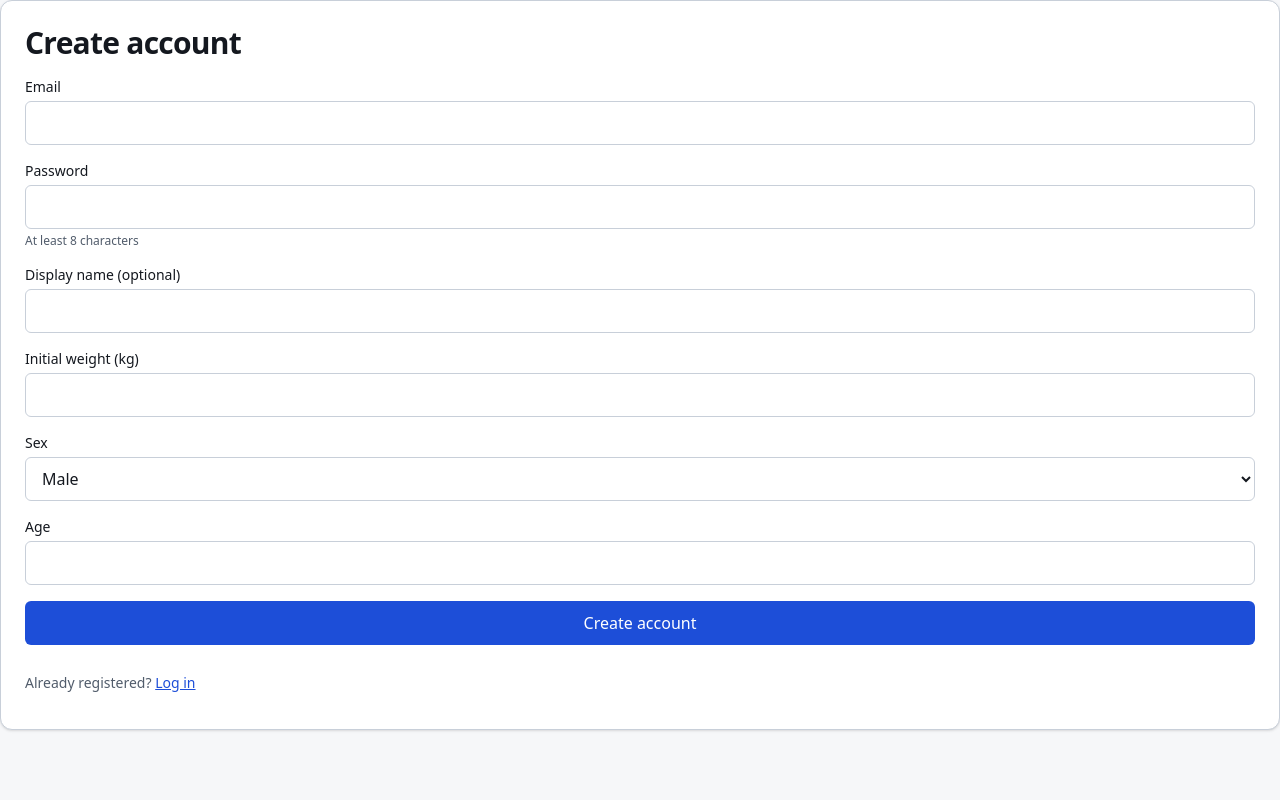
Test: RegisterRoute › shows the duplicate-account conflict at form level
This screenshot has width=1280, height=800.
In the field labelled "Email": (640, 123) [25,101,1255,145], type "taken@example.test"
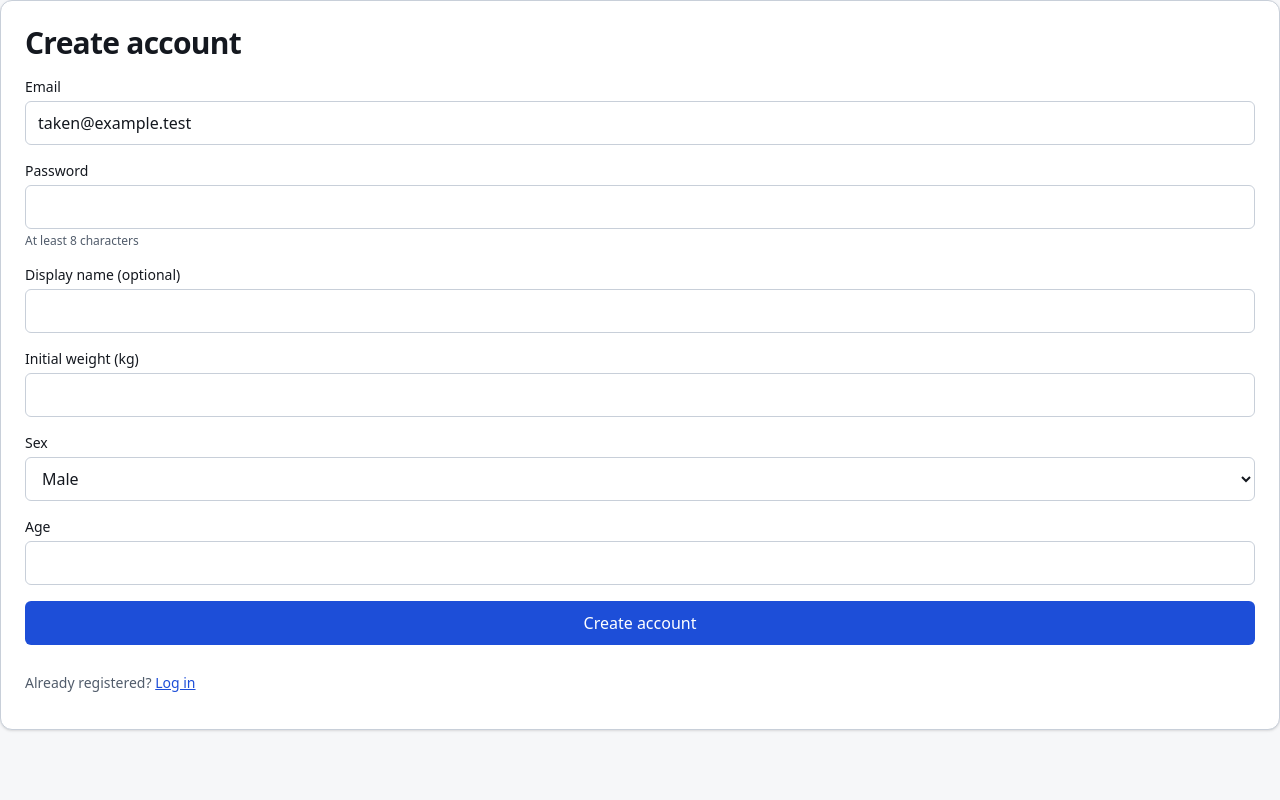
In the password field labelled "Password": (640, 207) [25,185,1255,229], type "password123"
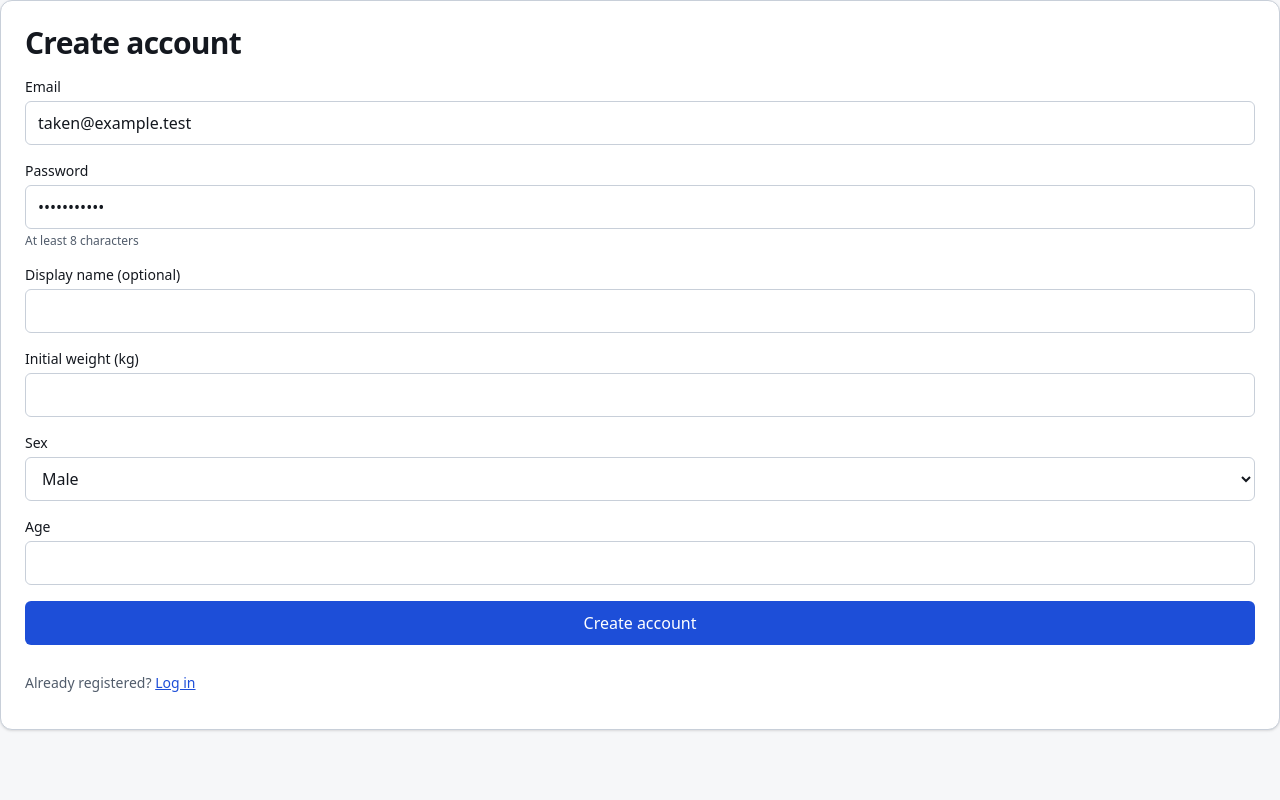
In the number field labelled "Initial weight (kg)": (640, 395) [25,373,1255,417], type "75"
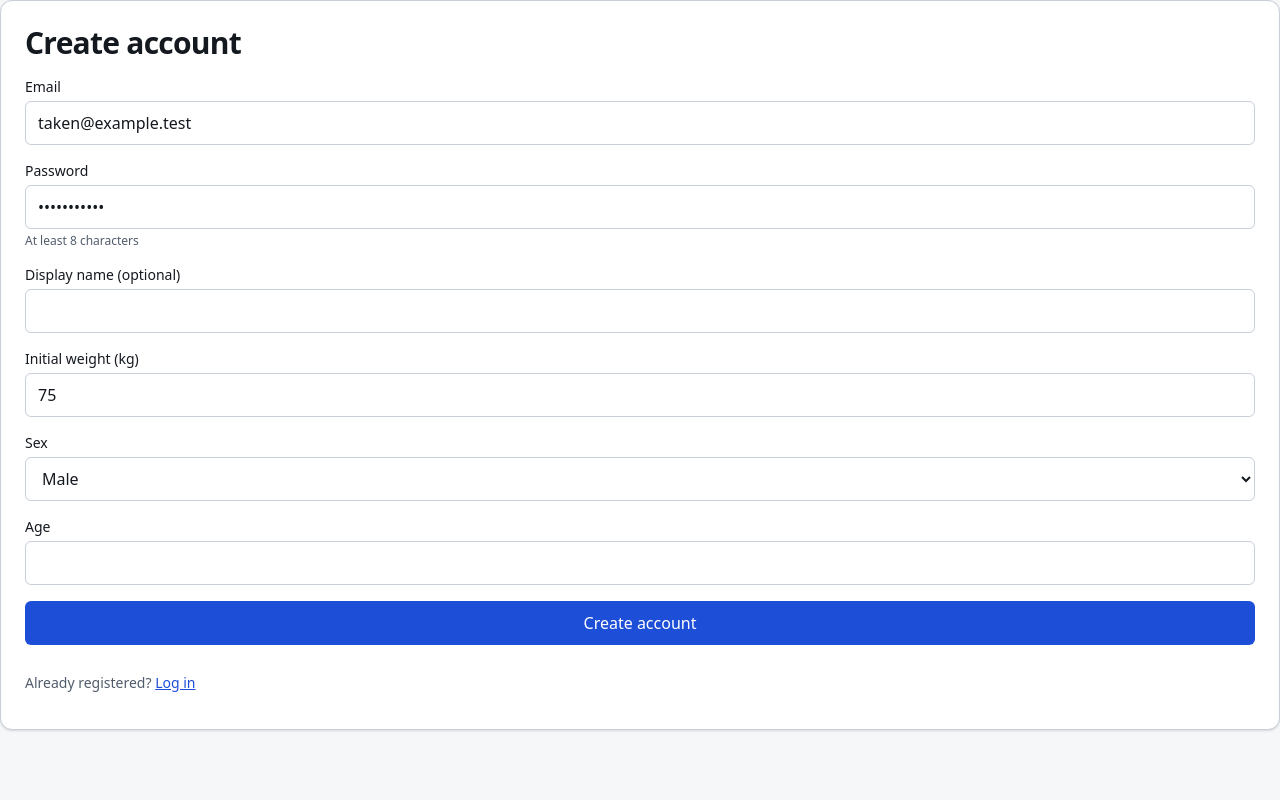
Select "Female" in the dropdown labelled "Sex": (640, 479) [25,457,1255,501]
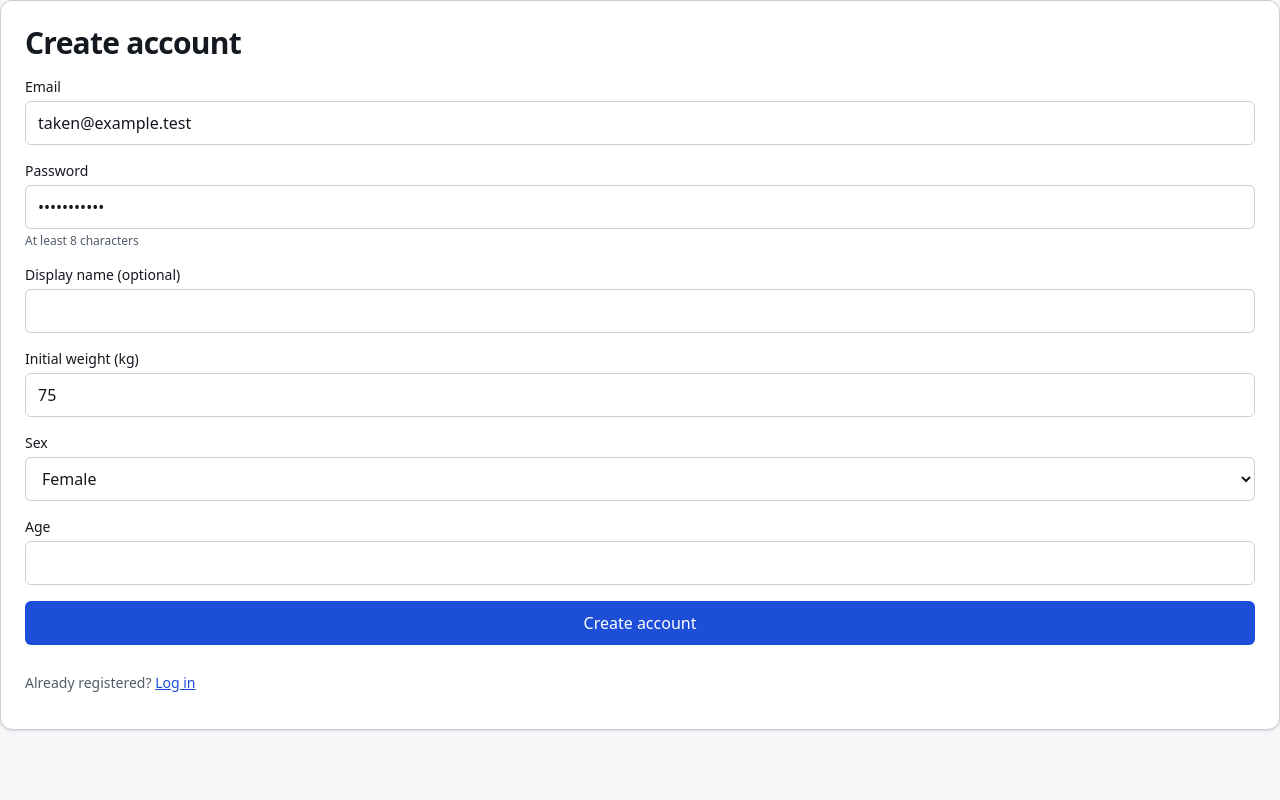
In the number field labelled "Age": (640, 563) [25,541,1255,585], type "31"
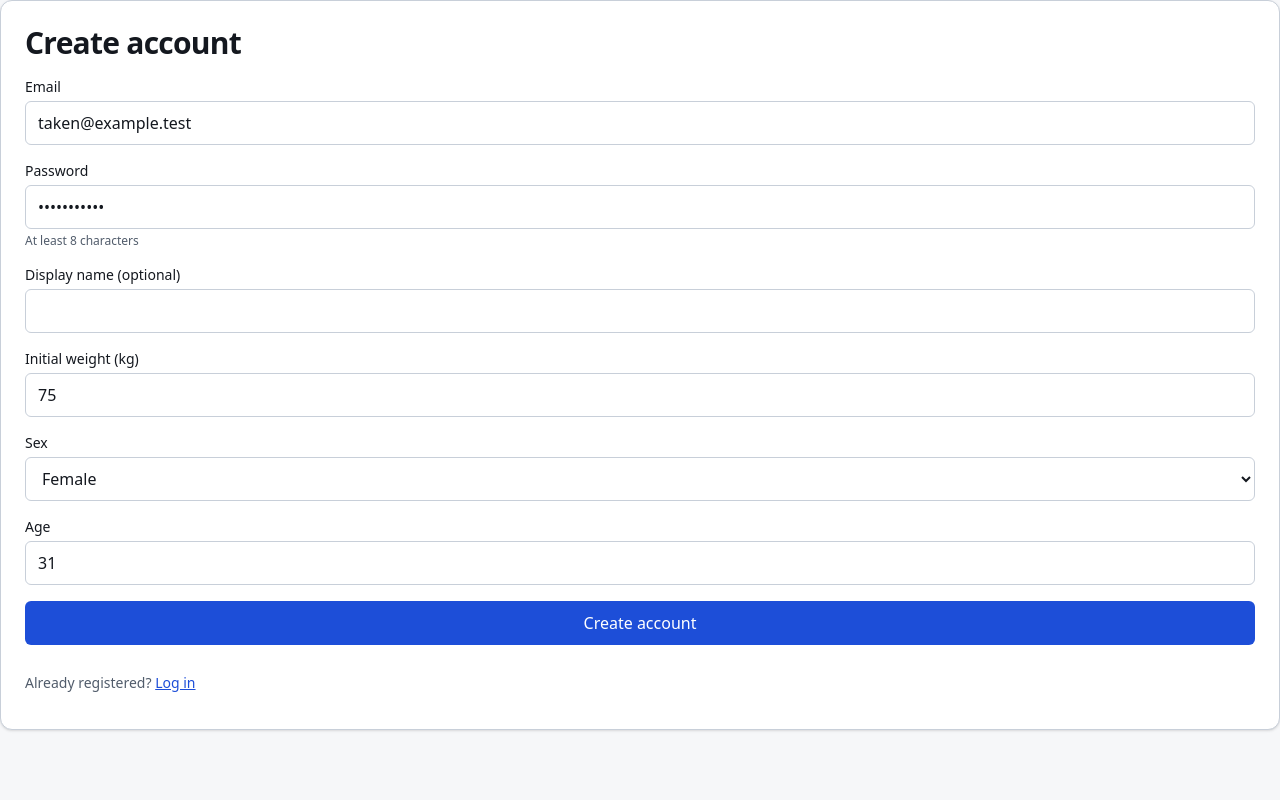
Submit the form
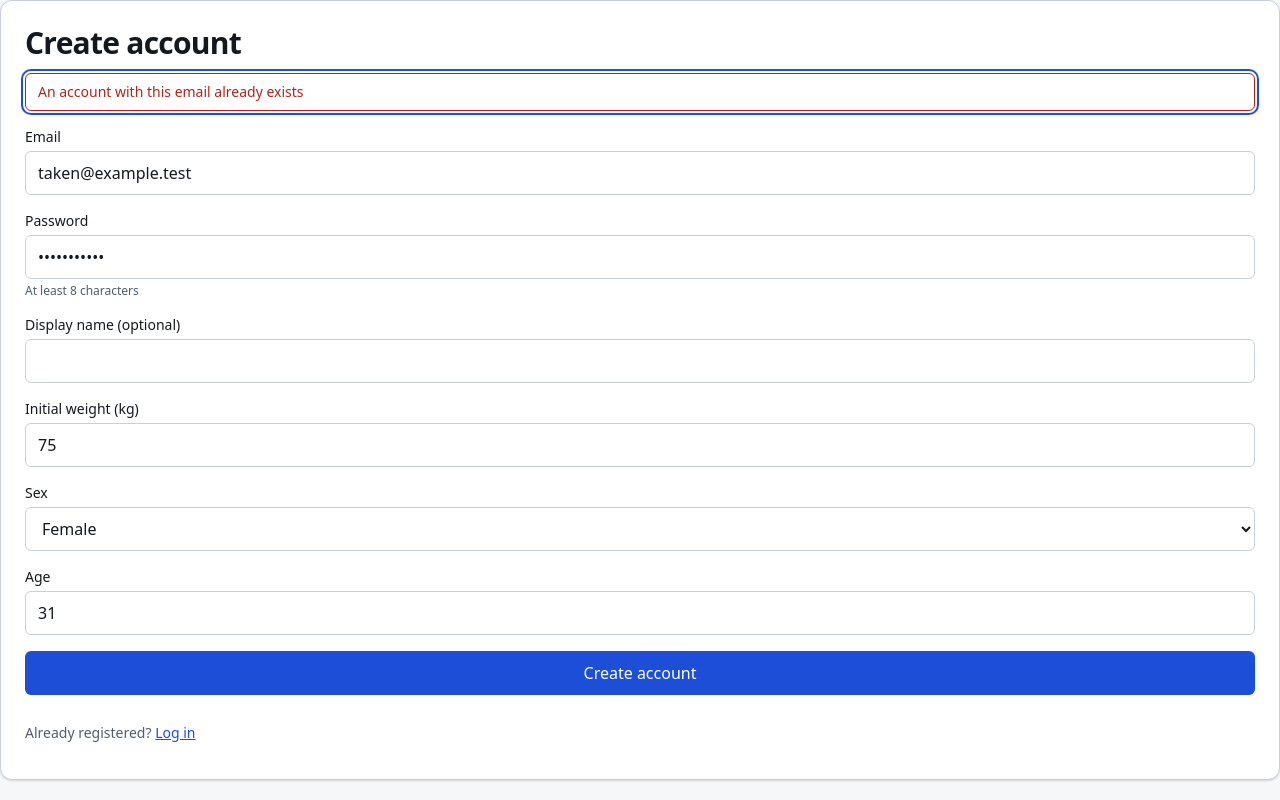
Check: the button "Create account" is shown, box [25,651,1255,695]
Check: the message reads "An account with this email already exists", box [38,82,304,101]
